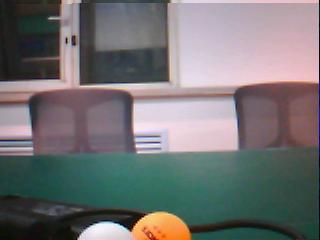oball: (131, 212, 191, 240)
